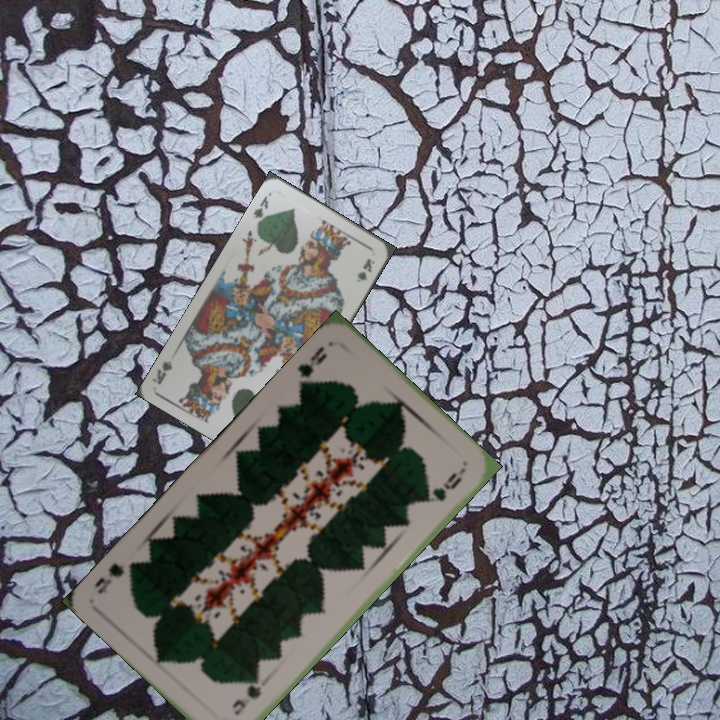G9: (293, 342, 330, 392), (228, 674, 265, 718)
GK: (248, 192, 271, 229)
